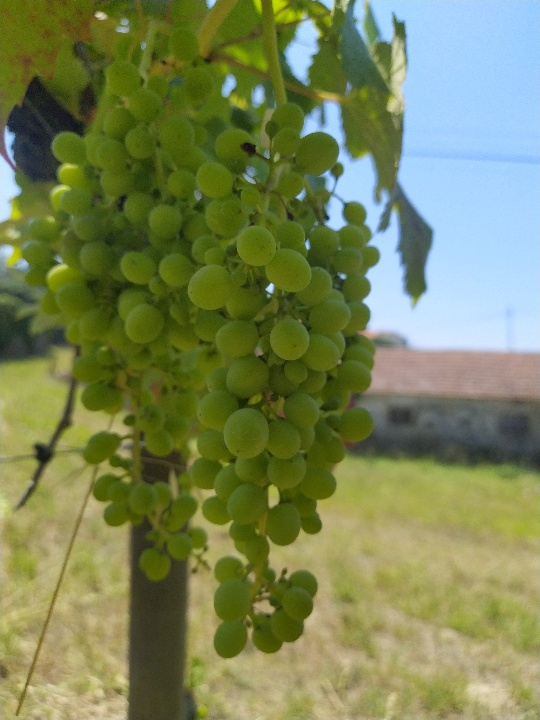grape: (20, 28, 382, 665)
